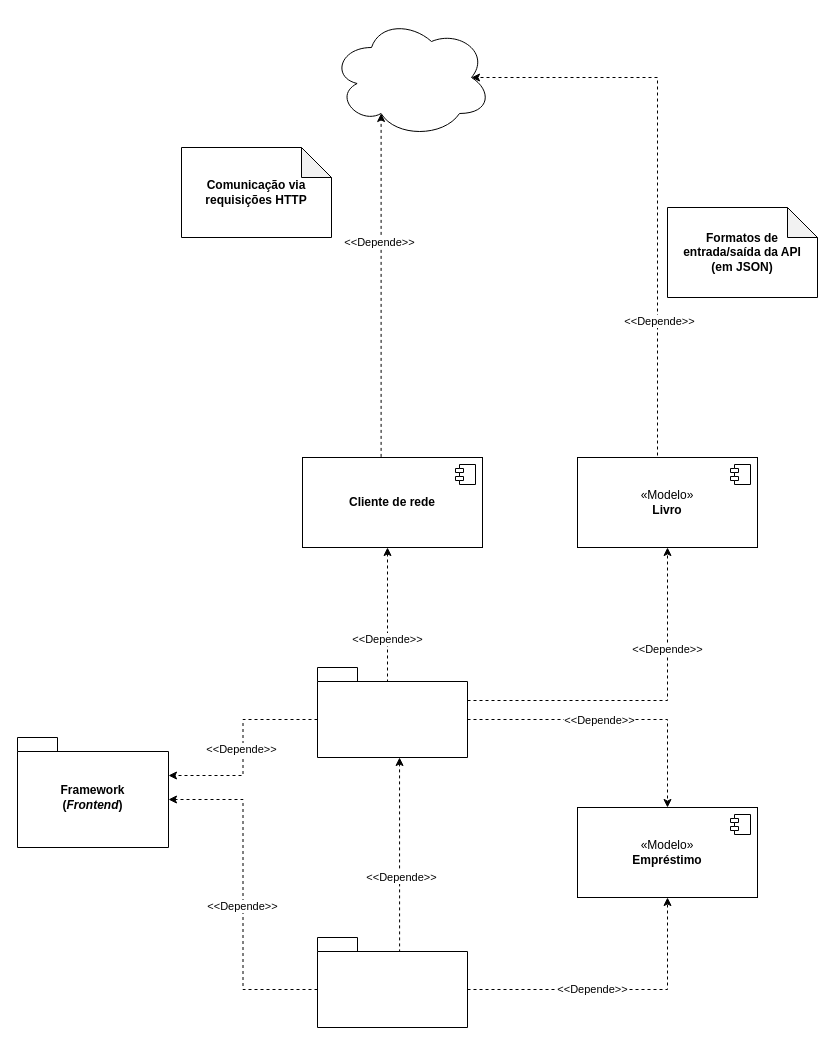
Image size: 835x1045. Some labels were removed from this diagram. The centre of each missing label's shape, as x and y in pixels:
"API REST ( Backend )" belongs at [411,77].
"Camada lógica" belongs at [392,712].
"Visualizações" belongs at [392,982].
